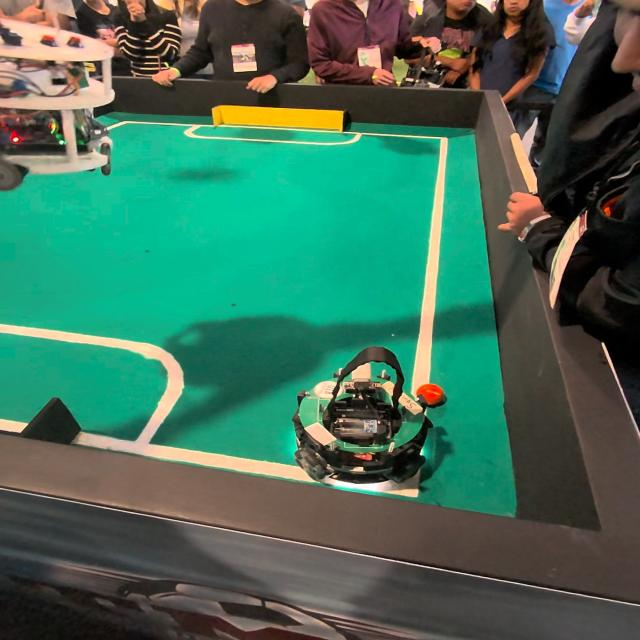Robot: (0, 0, 139, 192), (308, 345, 448, 498)
pelota: (420, 386, 446, 406)
